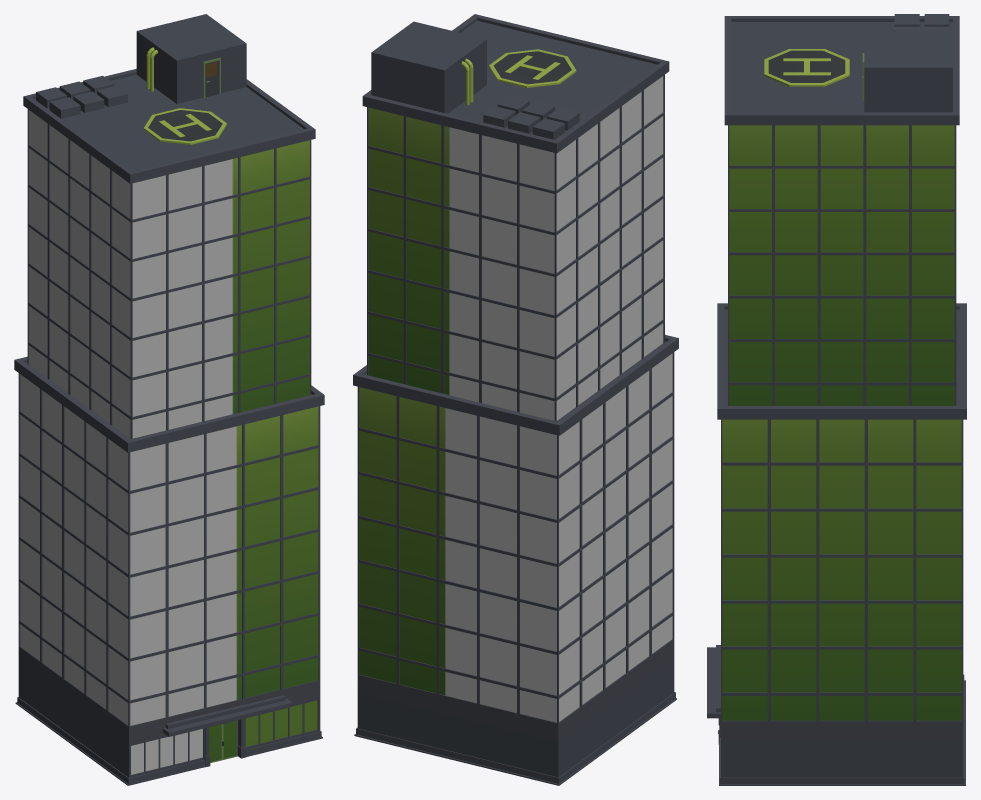
The model's file is House_02.fbx.
3 views of the same model, side by side, from view 1: azimuth 30°, elevation 25°; view 2: azimuth 150°, elevation 25°; view 3: azimuth 270°, elevation 25° (orthographic). The views are drawn at different scales.
Visible parts, largest first — view 1: House_02; view 2: House_02; view 3: House_02.
Boxes of the visible parts, left/top/right/bottom form: House_02: left=14, top=14, right=324, bottom=785; House_02: left=353, top=14, right=678, bottom=785; House_02: left=707, top=14, right=966, bottom=785.
Size of the model in its own units: 11.98 by 37.76 by 12.47.
